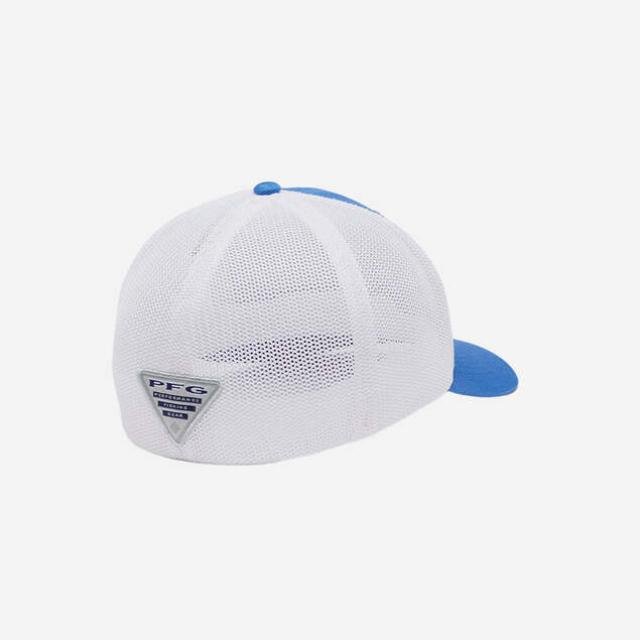Nonhelmet: (108, 177, 519, 468)
